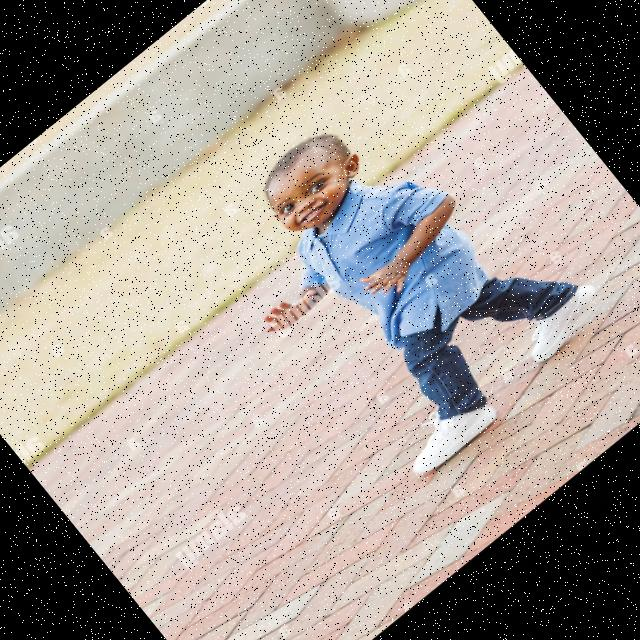Person: (190, 53, 620, 494)
